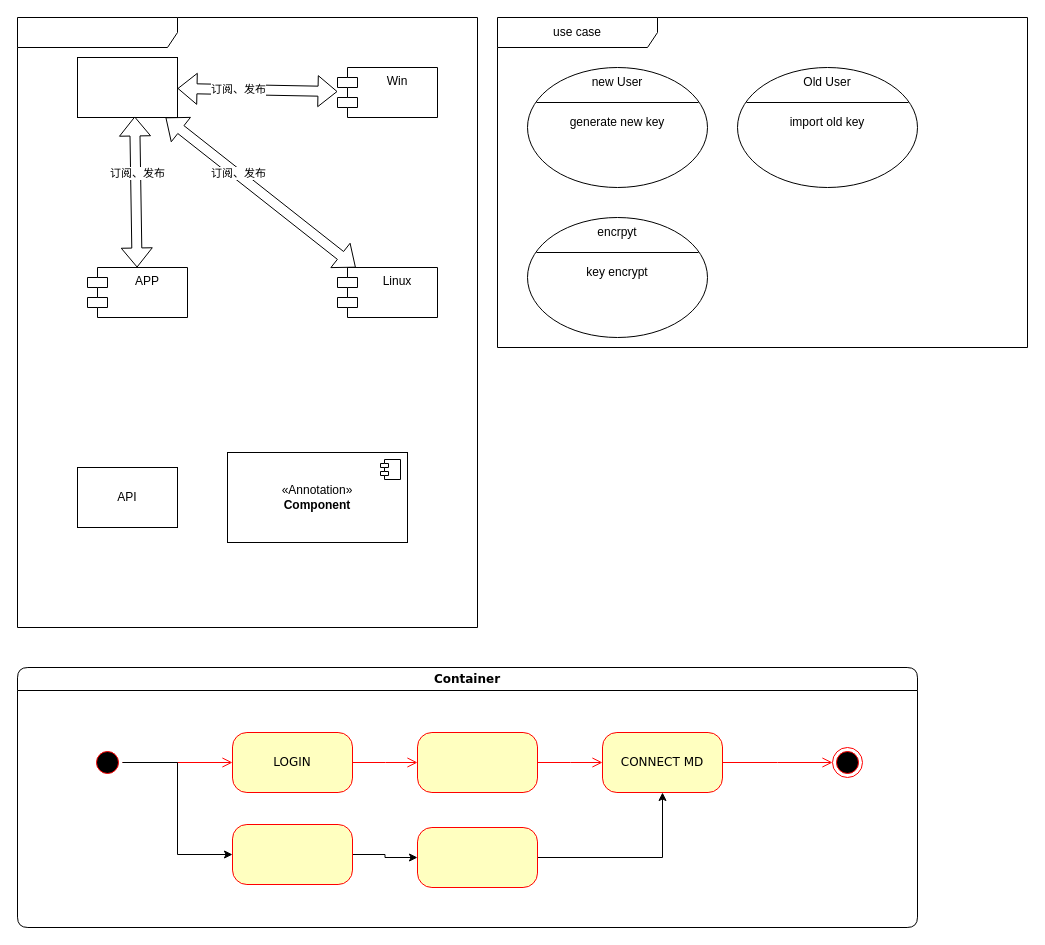
Some shapes in this 1045 by 945 pixel diagram are drawn without their labels. The shapes that lost their labels are listed below. From the top down, each one's box as (x1, y1, x2, y2) in pixels, then its label:
(76, 56, 178, 118): MQ
(16, 16, 478, 628): DATAFLOW
(416, 732, 538, 792): GET MQ INFO
(232, 824, 352, 884): BUY VIP
(416, 826, 538, 888): Remove AD Get a VIP MQ
